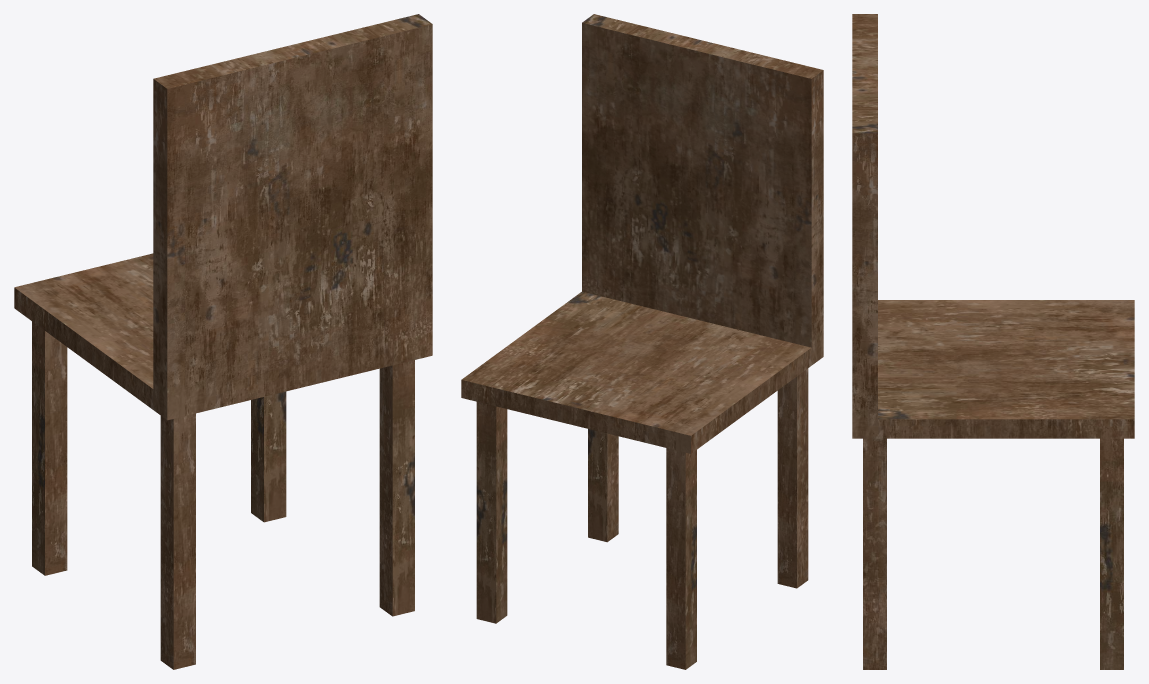
Rendered from chair.glb.
The picture shows the model from 3 angles, left to right: view 1: azimuth 30°, elevation 25°; view 2: azimuth 150°, elevation 25°; view 3: azimuth 270°, elevation 25°; orthographic projection. The views are drawn at different scales.
Parts seen in each view (by area): view 1: Chair-col; view 2: Chair-col; view 3: Chair-col.
Boxes of the visible parts, x1,y1,x2,y2 form: Chair-col: (14,14,432,669); Chair-col: (461,14,823,669); Chair-col: (852,14,1134,669).
Bounding box in the file's own units: 0.5858 × 1.24 × 0.5858.
1 material, 1 textured.
